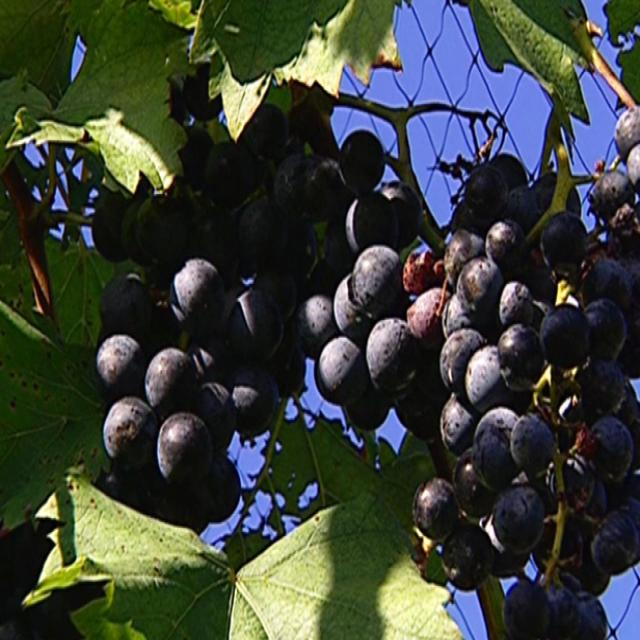Grapes: (49, 25, 315, 573), (426, 155, 640, 640), (281, 69, 460, 528)
